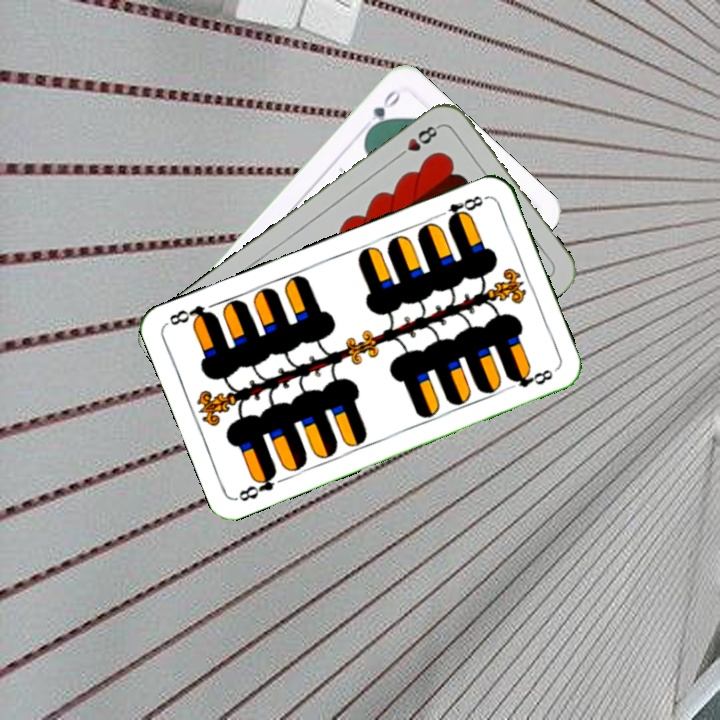E8: (433, 191, 490, 226), (233, 466, 280, 504)
GO: (363, 85, 403, 136)
H8: (392, 121, 443, 162)
